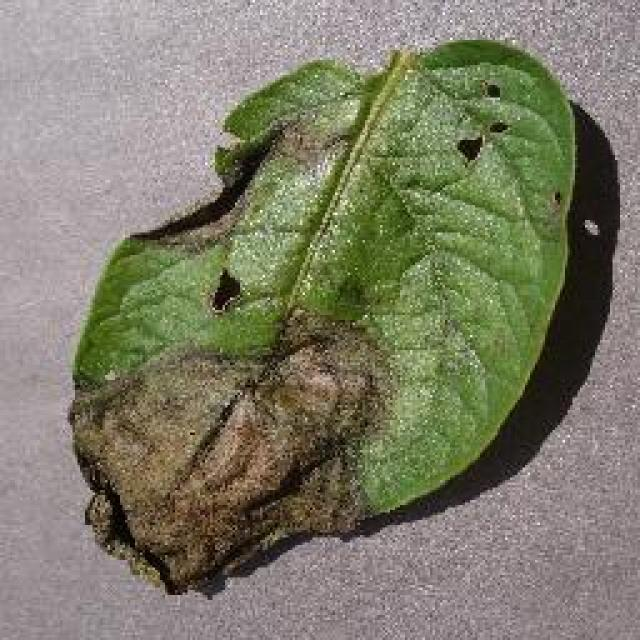Potato___Late_blight: (63, 35, 581, 600)
